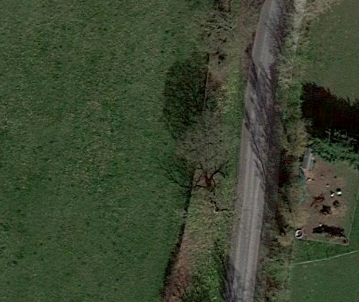tree: (163, 95, 233, 165)
